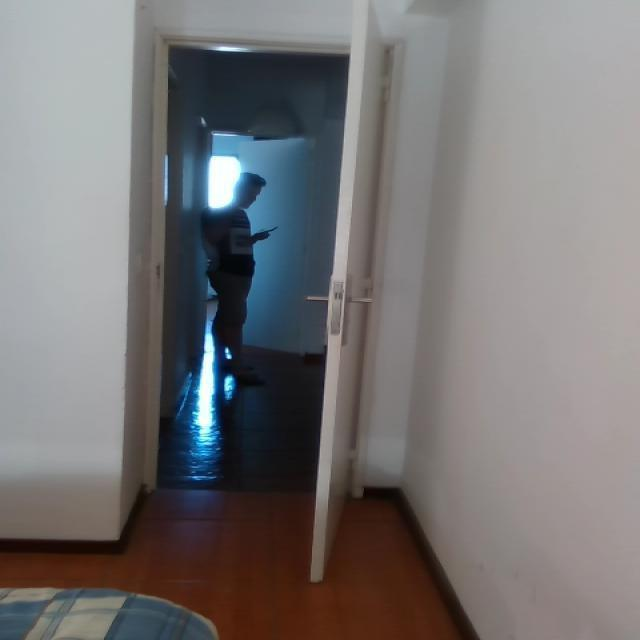door: (301, 6, 398, 584)
